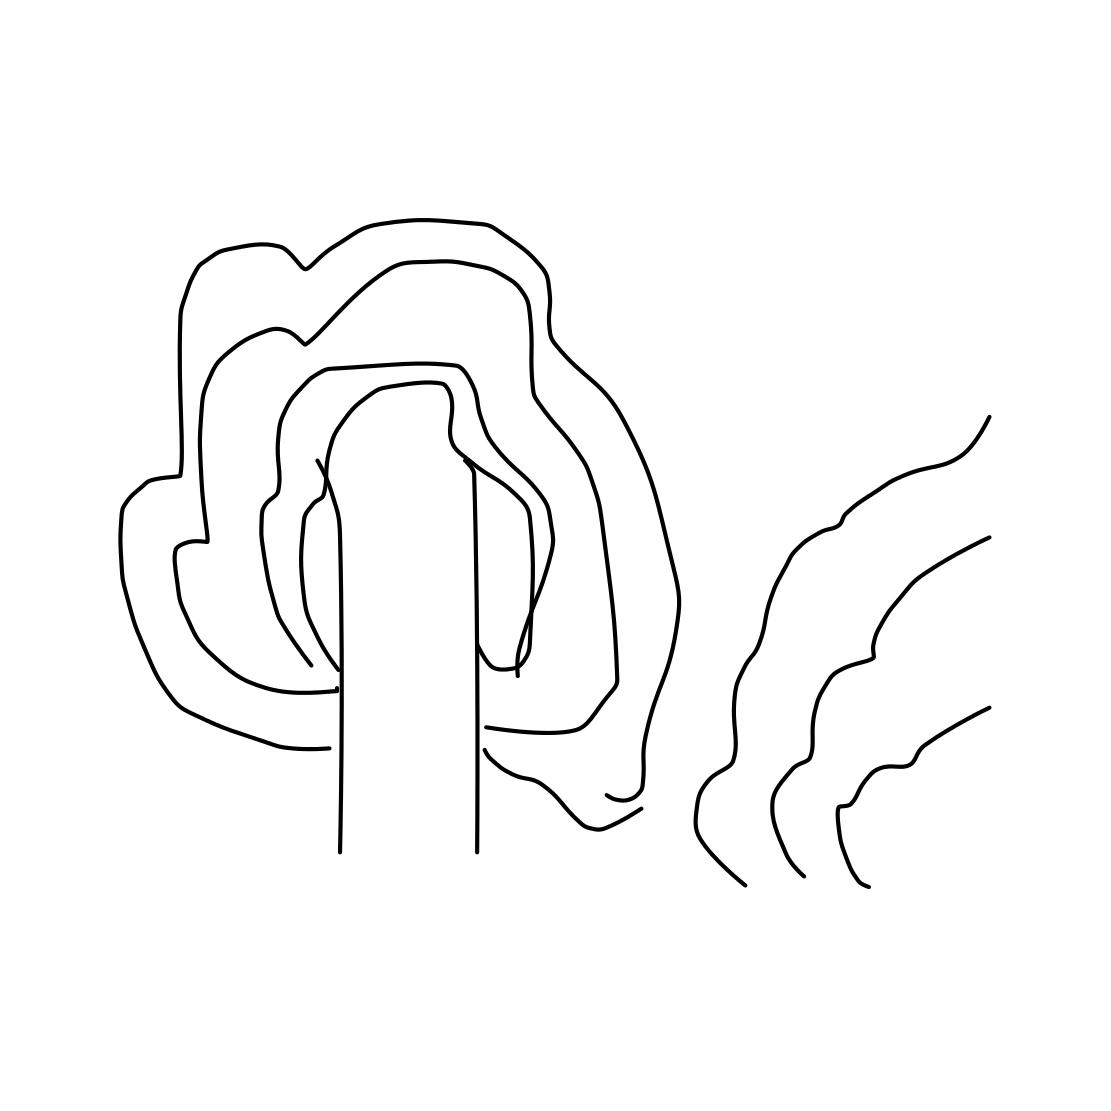Tree: (87, 178, 689, 901)
